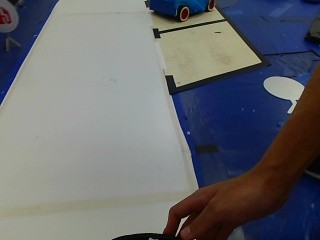battery: (0, 0, 19, 38)
car: (141, 0, 220, 27)
